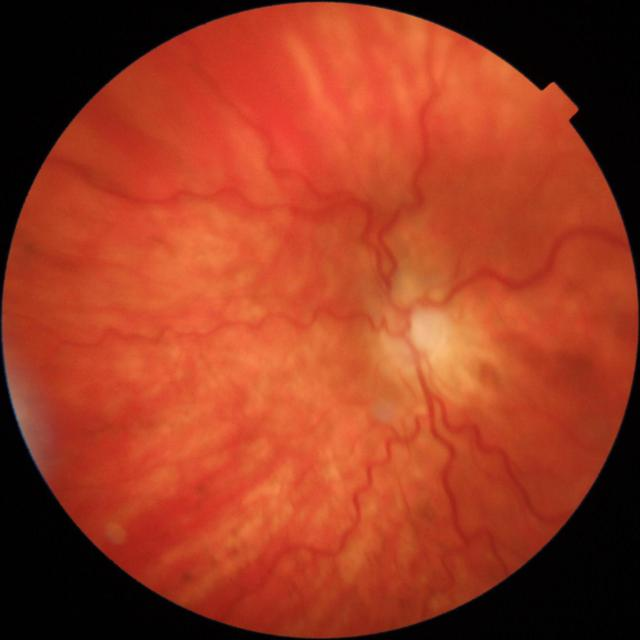OC: (409, 314, 437, 347)
OD: (378, 296, 441, 360)
